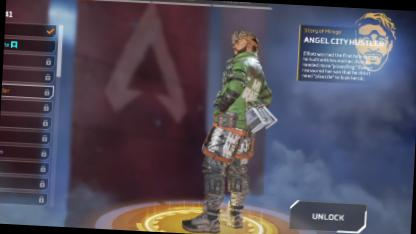Target: (206, 25, 276, 184)
